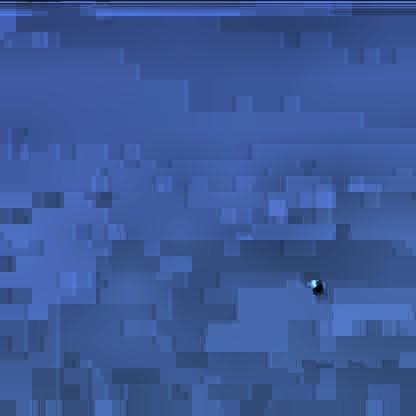golfball: (306, 278, 322, 291)
